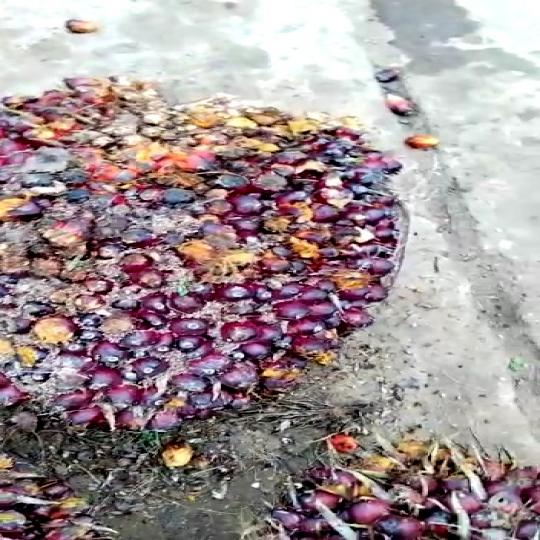kurang masak: (0, 72, 426, 438)
